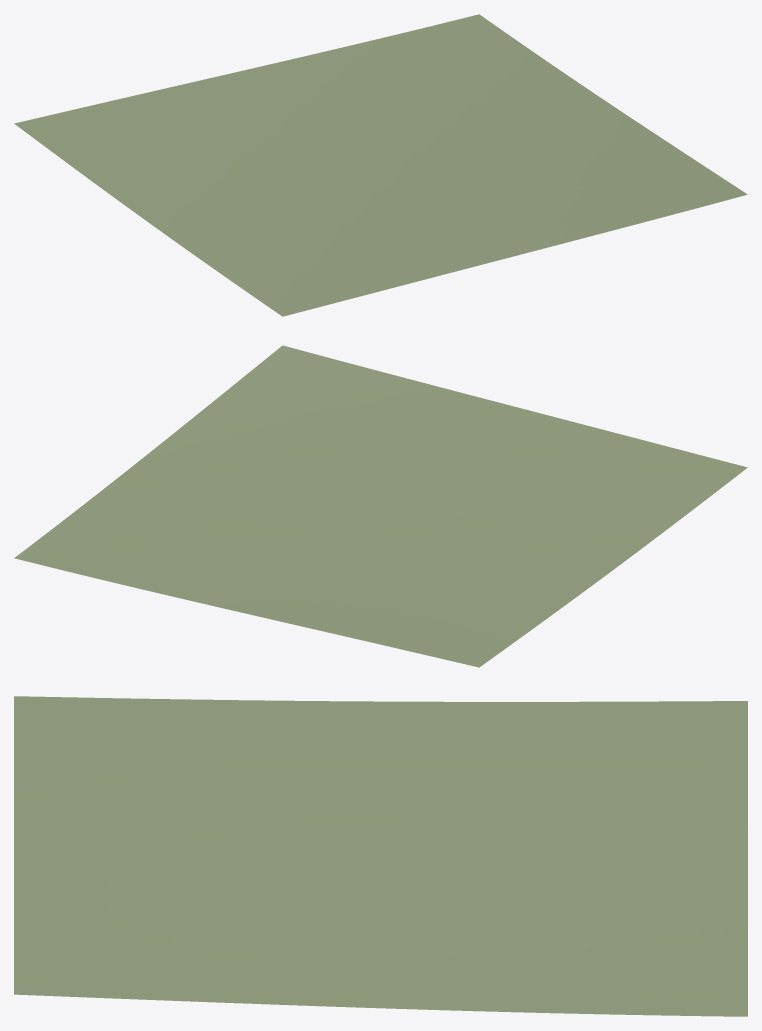
Rendered from expanse-4-21.glb.
The picture shows the model from 3 angles, top to bottom: view 1: azimuth 30°, elevation 25°; view 2: azimuth 150°, elevation 25°; view 3: azimuth 270°, elevation 25°; orthographic projection. The views are drawn at different scales.
Parts seen in each view (by area): view 1: expanse-4-21; view 2: expanse-4-21; view 3: expanse-4-21.
Boxes of the visible parts, x1,y1,x2,y2 form: expanse-4-21: [14, 14, 747, 316]; expanse-4-21: [14, 345, 747, 667]; expanse-4-21: [14, 696, 747, 1016].
Bounding box in the file's own units: 256 × 8.64 × 256.
